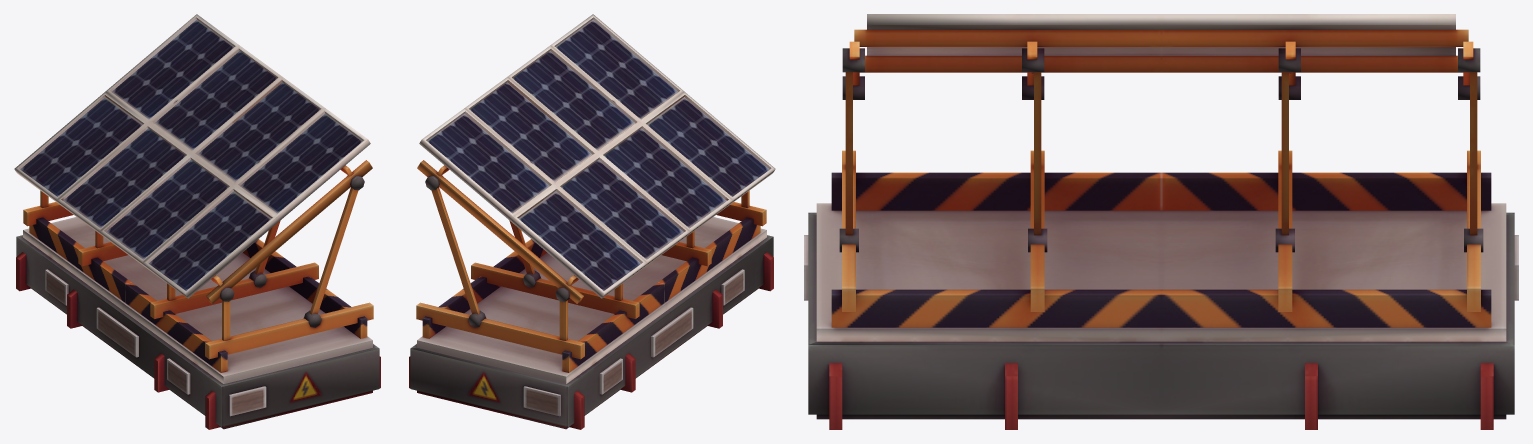
File: Obstacle_SolarPanels.FBX
3 views of the same model, side by side, from view 1: azimuth 30°, elevation 25°; view 2: azimuth 150°, elevation 25°; view 3: azimuth 270°, elevation 25° (orthographic). The views are drawn at different scales.
Parts seen in each view (by area): view 1: Obstacle_SolarPanels; view 2: Obstacle_SolarPanels; view 3: Obstacle_SolarPanels.
Part boxes in pixels (x1,y1,x2,y2): Obstacle_SolarPanels: (14,14,380,429); Obstacle_SolarPanels: (409,14,775,429); Obstacle_SolarPanels: (804,14,1518,429).
Size of the model in its own units: 14 by 17.39 by 27.17.
